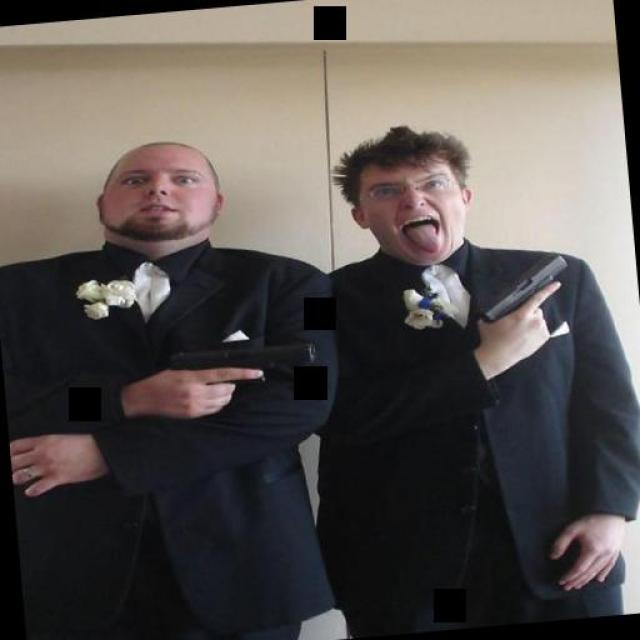gun: (161, 332, 325, 403), (458, 248, 578, 338)
